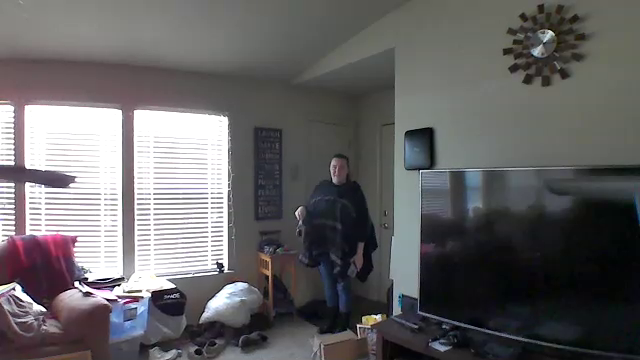down: (290, 201, 308, 224)
